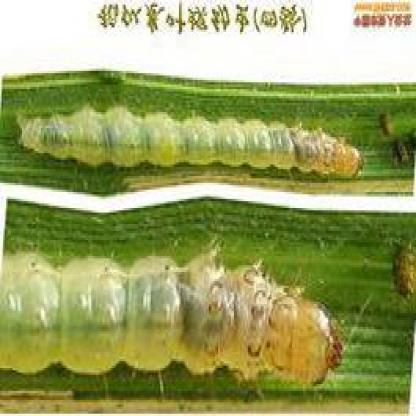leaf-folder: (13, 254, 353, 403), (28, 86, 364, 196)
